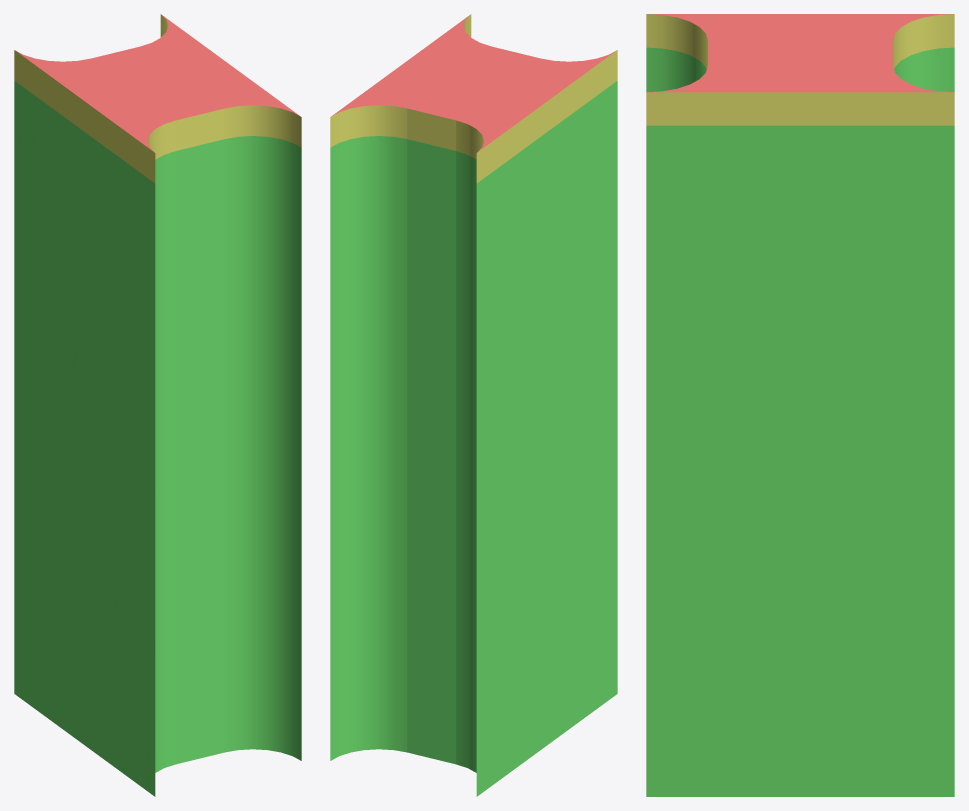
File: bridge.fbx
3 views of the same model, side by side, from view 1: azimuth 30°, elevation 25°; view 2: azimuth 150°, elevation 25°; view 3: azimuth 270°, elevation 25° (orthographic). The views are drawn at different scales.
Parts seen in each view (by area): view 1: SketchUp.002, SketchUp, SketchUp.001; view 2: SketchUp.002, SketchUp, SketchUp.001; view 3: SketchUp.002, SketchUp, SketchUp.001.
Part boxes in pixels (x1=…): SketchUp.002: x1=14, y1=81, x2=301, y2=796; SketchUp: x1=15, y1=15, x2=300, y2=151; SketchUp.001: x1=14, y1=14, x2=301, y2=183; SketchUp.002: x1=330, y1=81, x2=617, y2=796; SketchUp: x1=331, y1=15, x2=616, y2=151; SketchUp.001: x1=330, y1=14, x2=617, y2=183; SketchUp.002: x1=646, y1=47, x2=954, y2=796; SketchUp: x1=648, y1=14, x2=952, y2=92; SketchUp.001: x1=646, y1=14, x2=954, y2=125.
Size of the model in its own units: 150 by 630 by 250.
